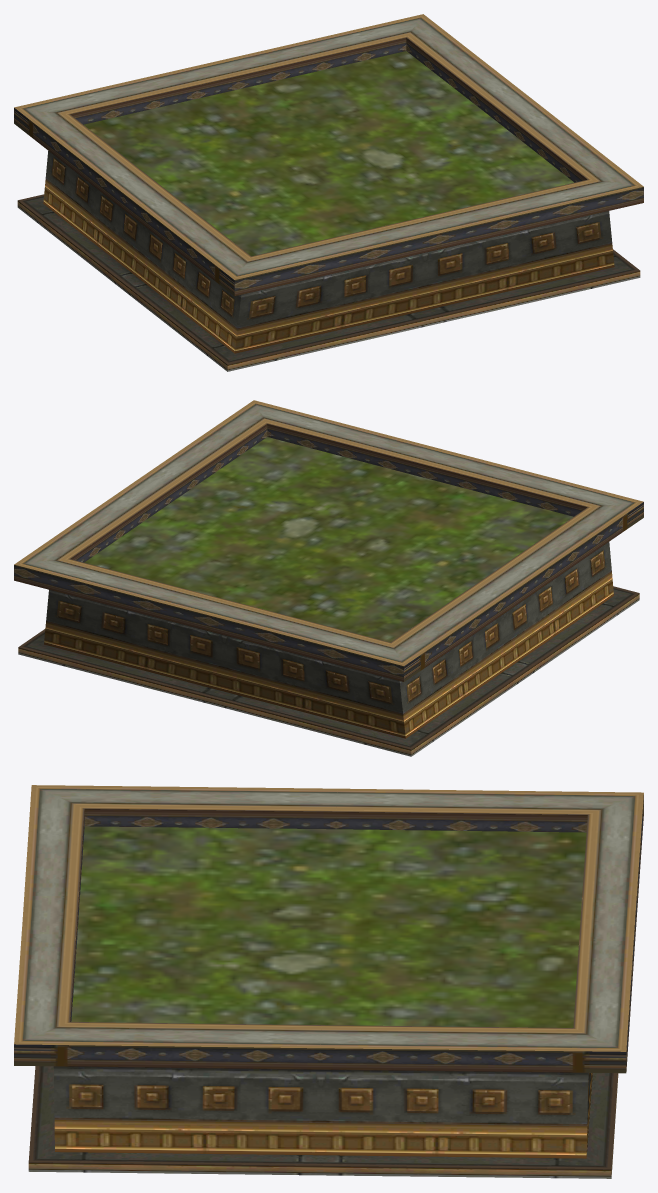
The model's file is Yland1_bj_02 Yland1.FBX.
The picture shows the model from 3 angles, top to bottom: view 1: azimuth 30°, elevation 25°; view 2: azimuth 150°, elevation 25°; view 3: azimuth 270°, elevation 25°; orthographic projection. The views are drawn at different scales.
Visible parts, largest first — view 1: Yland1_bj_02 Yland1; view 2: Yland1_bj_02 Yland1; view 3: Yland1_bj_02 Yland1.
Boxes of the visible parts, x1=… form: Yland1_bj_02 Yland1: x1=14, y1=14, x2=643, y2=371; Yland1_bj_02 Yland1: x1=14, y1=400, x2=643, y2=756; Yland1_bj_02 Yland1: x1=14, y1=785, x2=643, y2=1178.
Bounding box in the file's own units: 3.37 × 0.7379 × 3.34.
